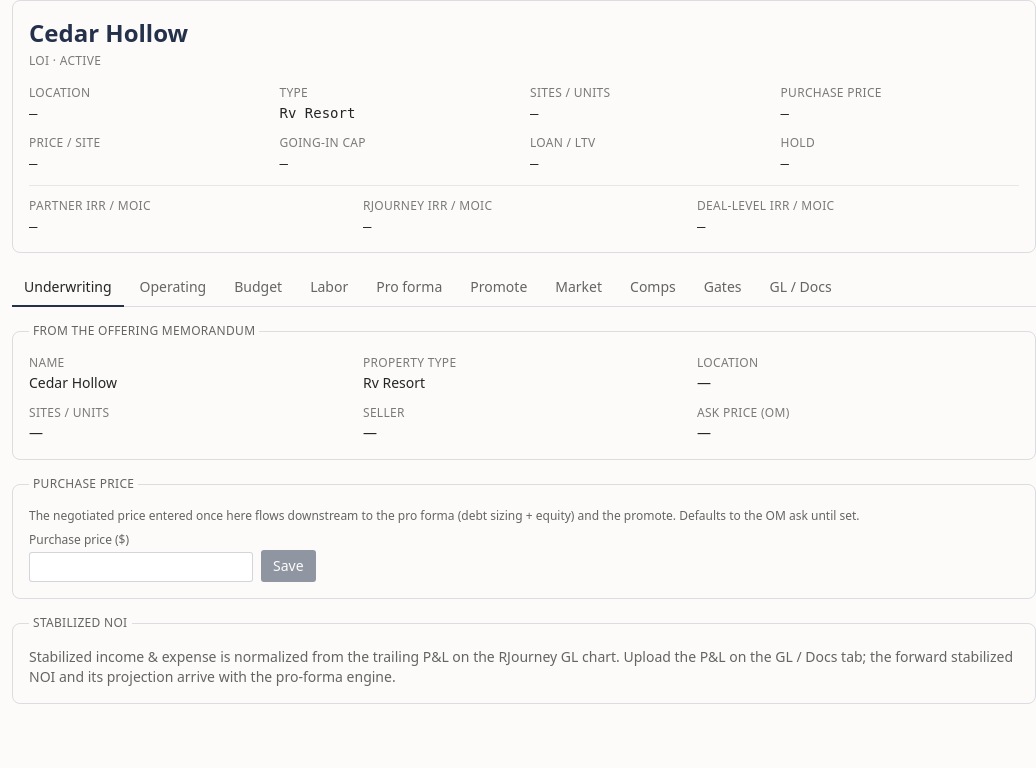
AcquisitionDetail › switches to the Gates tab
Click the tab "Gates": [723, 288] box [692,269,754,307]
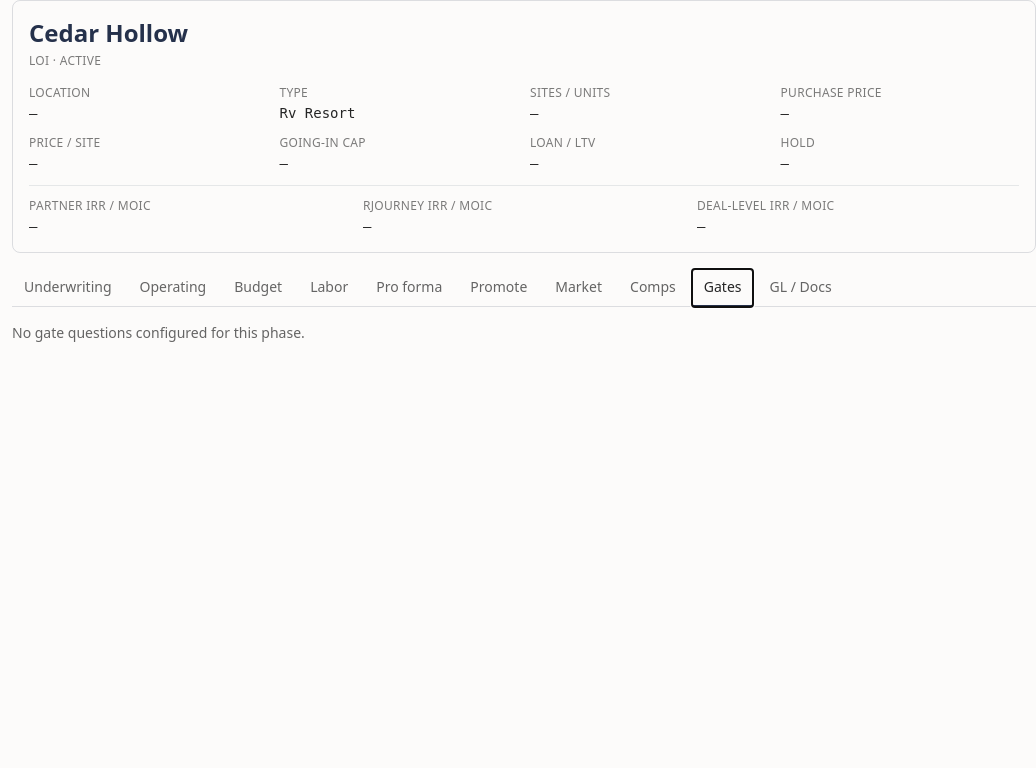
Result: the text "No gate questions configured for this phase." is shown at [12,323,305,342]
